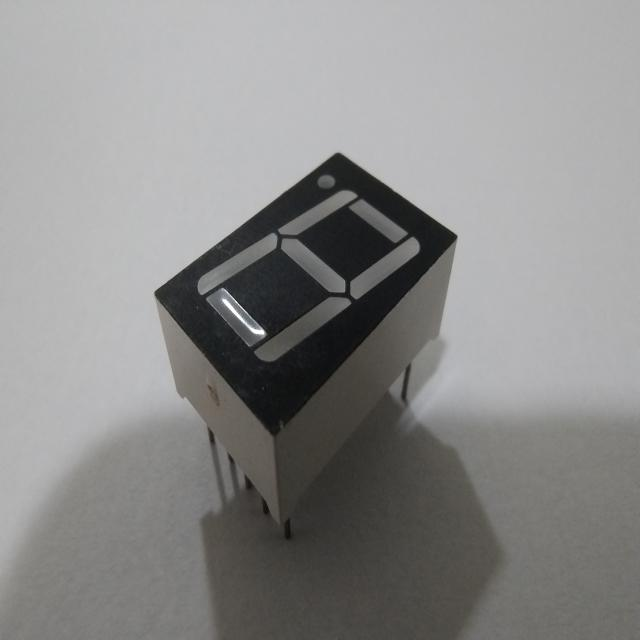7_segments: (144, 150, 466, 542)
